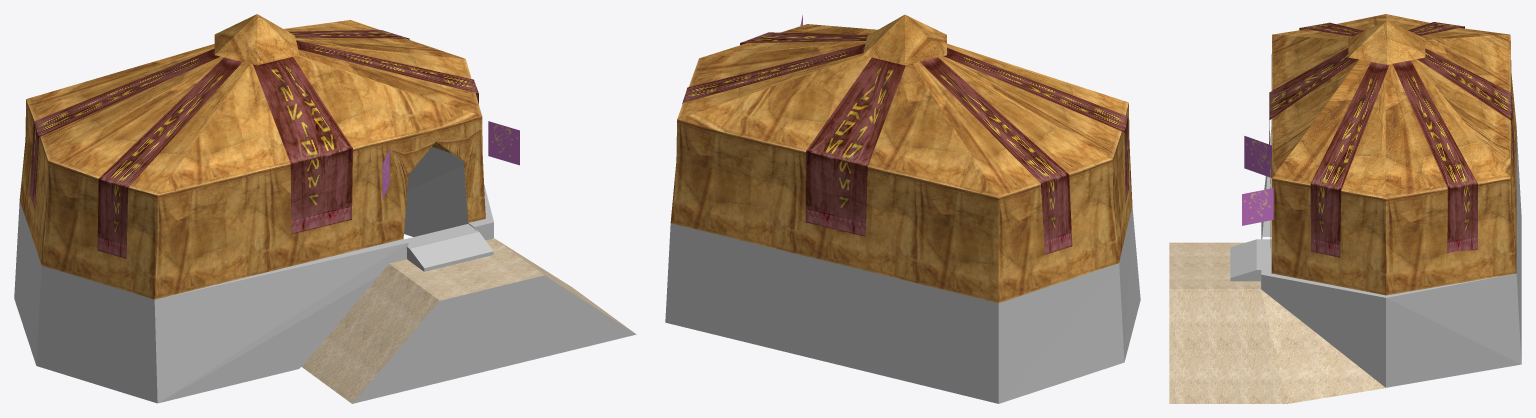
Rendered from ply_tato_idesigner_tent_s01_r0_mesh_l1.fbx.
The picture shows the model from 3 angles, left to right: view 1: azimuth 30°, elevation 25°; view 2: azimuth 150°, elevation 25°; view 3: azimuth 270°, elevation 25°; orthographic projection. The views are drawn at different scales.
Parts seen in each view (by area): view 1: mesh_node; view 2: mesh_node; view 3: mesh_node.
Boxes of the visible parts, left/top/right/bottom form: mesh_node: left=14, top=14, right=636, bottom=403; mesh_node: left=665, top=14, right=1140, bottom=403; mesh_node: left=1169, top=14, right=1521, bottom=403.
Size of the model in its own units: 17.22 by 10.19 by 12.03.
